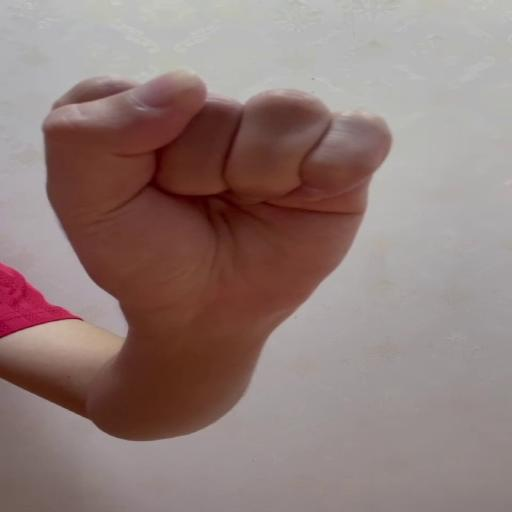fist: (41, 71, 394, 316)
